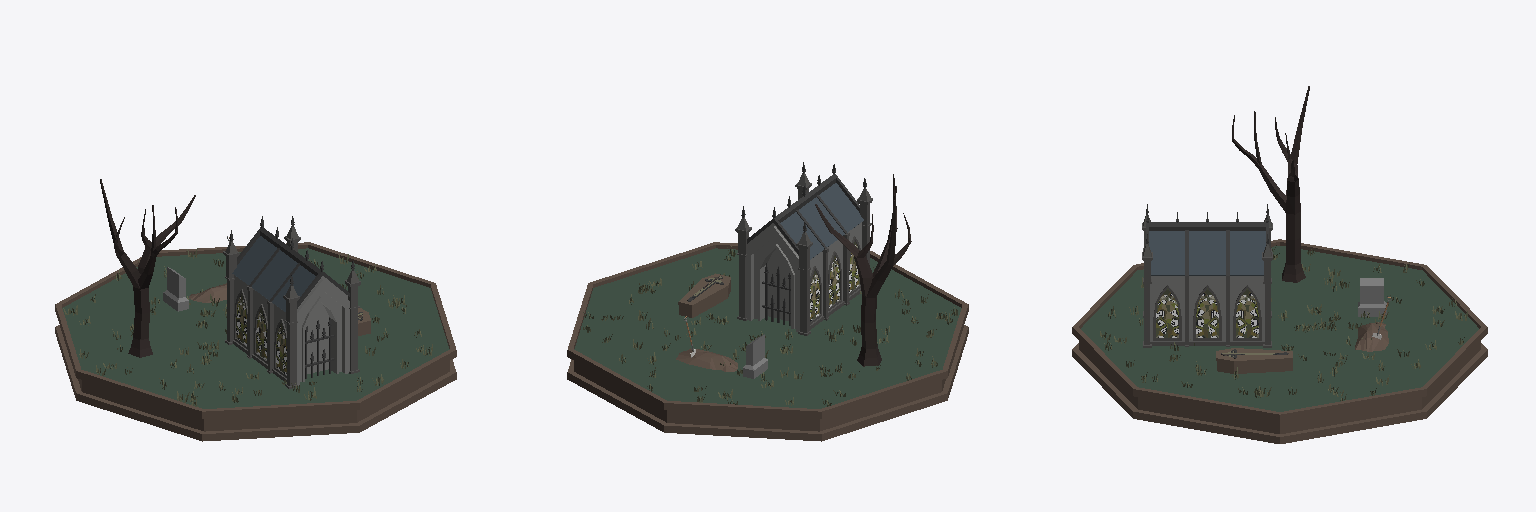
3 views of the same model, side by side, from view 1: azimuth 30°, elevation 25°; view 2: azimuth 150°, elevation 25°; view 3: azimuth 270°, elevation 25° (orthographic).
Parts seen in each view (by area): view 1: Cylinder, Crypt_3, Dead_Tree_1, Grass, Headstone_3; view 2: Cylinder, Crypt_3, Dead_Tree_1, Grass, Coffin_1, Ground, Headstone_3; view 3: Cylinder, Crypt_3, Dead_Tree_1, Grass, Coffin_1, Headstone_3, Ground.
Part boxes in pixels (x1,y1,x2,y2): Cylinder: (55,242,456,441); Crypt_3: (223,216,360,388); Dead_Tree_1: (100,179,195,357); Grass: (63,248,432,406); Headstone_3: (163,267,188,311); Cylinder: (567,242,968,441); Crypt_3: (735,162,872,335); Dead_Tree_1: (815,174,911,366); Grass: (583,246,957,406); Coffin_1: (678,274,730,317); Ground: (676,348,737,371); Headstone_3: (743,334,767,378); Cylinder: (1072,239,1487,443); Crypt_3: (1142,204,1272,347); Dead_Tree_1: (1232,86,1309,282); Grass: (1100,245,1467,400); Coffin_1: (1216,348,1292,373); Headstone_3: (1358,278,1386,316); Ground: (1355,322,1388,351).
Bounding box in the file's own units: 790 × 423 × 790.
1 materials, 1 textured.